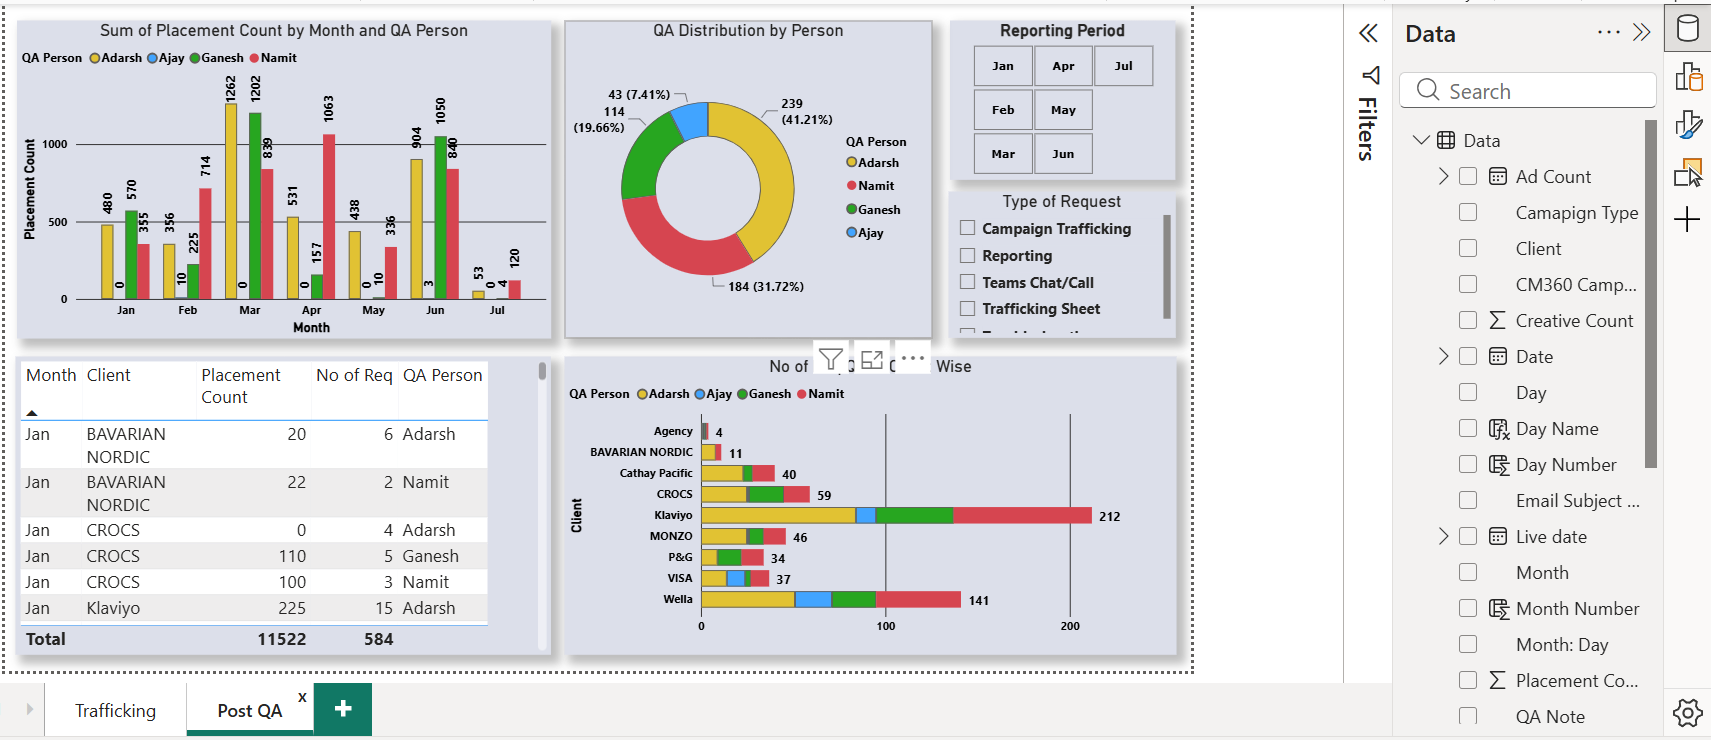

Layout of this report page (visuals, bound fields, positions):
{"tool":"powerbi","page":{"name":"Post QA","canvas":[1280,720],"ordinal":1},"visuals":[{"type":"clusteredColumnChart","fields":{"Y":["Sum(Data.Placement Count)"],"Category":["Data.Month"],"Series":["Data.QA Person"]},"box":[13,17.8,576.4,343.3],"z":0},{"type":"slicer","title":"Reporting Period","fields":{"Values":["Data.Month"]},"box":[1020.8,18.2,243,172.2],"z":1000},{"type":"tableEx","title":"Client Wise Request","fields":{"Values":["Data.Month","Data.Client","Sum(Data.Placement Count)","Data.Request Type","Data.QA Person"]},"box":[11.3,380.5,578.1,322.2],"z":2000},{"type":"barChart","title":"No of Req QAed Client Wise","fields":{"Category":["Data.Client"],"Y":["CountNonNull(Data.Month)"],"Series":["Data.QA Person"]},"box":[604,380.5,660.6,322.2],"z":3000},{"type":"donutChart","title":"QA Distribution by Person","fields":{"Category":["Data.QA Person"],"Y":["CountNonNull(Data.Camapign Type)"]},"box":[603.5,18.2,397,342.3],"z":4000},{"type":"slicer","title":"Type of Request","fields":{"Values":["Data.Request Type"]},"box":[1018.7,202.5,245.1,158],"z":5000}]}

Visuals, with their boxes on the page's 1280x720 design canvas (x1, y1, x2, y2). These are canvas units, not pixel positions in the 1711x740 screenshot, which may show the page scaled, cropped or inside an application window:
clusteredColumnChart - Sum(Data.Placement Count) x Data.Month: box=[13, 18, 589, 361]
"Reporting Period" slicer: box=[1021, 18, 1264, 190]
"Client Wise Request" tableEx: box=[11, 380, 589, 703]
"No of Req QAed Client Wise" barChart: box=[604, 380, 1265, 703]
"QA Distribution by Person" donutChart: box=[604, 18, 1000, 360]
"Type of Request" slicer: box=[1019, 202, 1264, 360]
